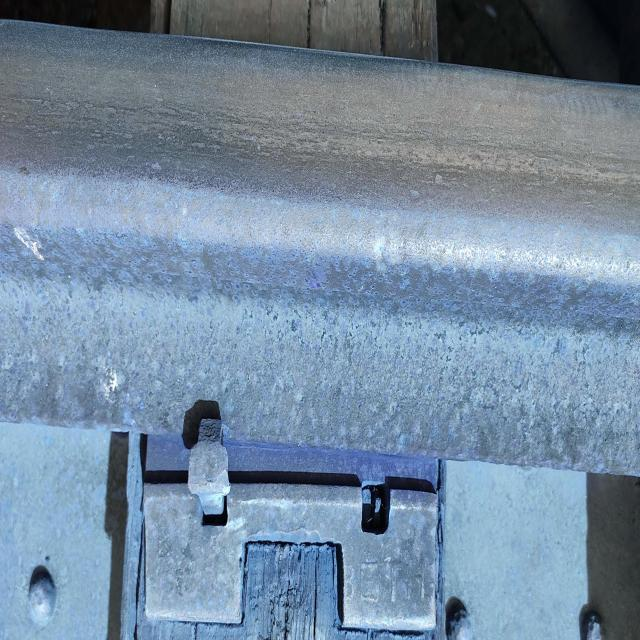Missing Dogscrew: (361, 483, 390, 534)
